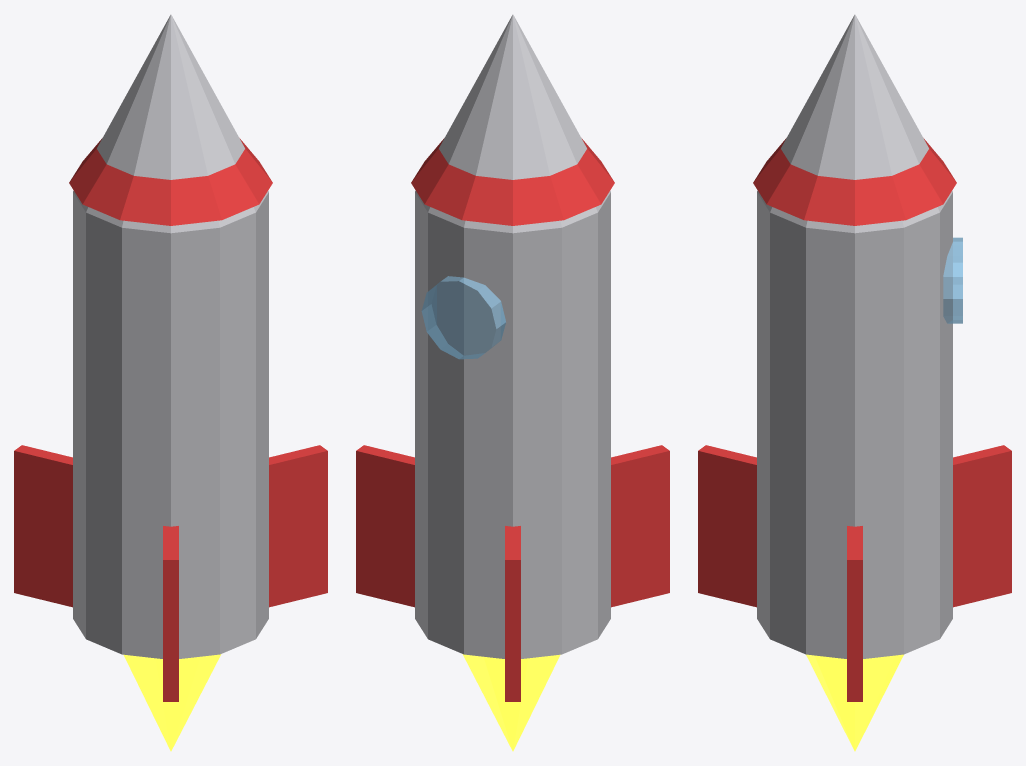
The model's file is Rocket.fbx.
The picture shows the model from 3 angles, left to right: view 1: azimuth 30°, elevation 25°; view 2: azimuth 150°, elevation 25°; view 3: azimuth 270°, elevation 25°; orthographic projection.
Parts seen in each view (by area): view 1: Hull, Fin, Glow; view 2: Hull, Fin, Ice, Glow; view 3: Hull, Fin, Glow, Ice.
Part boxes in pixels (x1,y1,x2,y2): Hull: (73, 14, 268, 658); Fin: (14, 139, 327, 701); Glow: (123, 654, 221, 751); Hull: (415, 14, 610, 658); Fin: (356, 139, 669, 701); Ice: (421, 276, 505, 359); Glow: (462, 654, 560, 751); Hull: (757, 14, 952, 658); Fin: (698, 139, 1011, 701); Glow: (806, 654, 903, 751); Ice: (943, 237, 962, 323).
Size of the model in its own units: 1.42 by 4.15 by 1.6.
